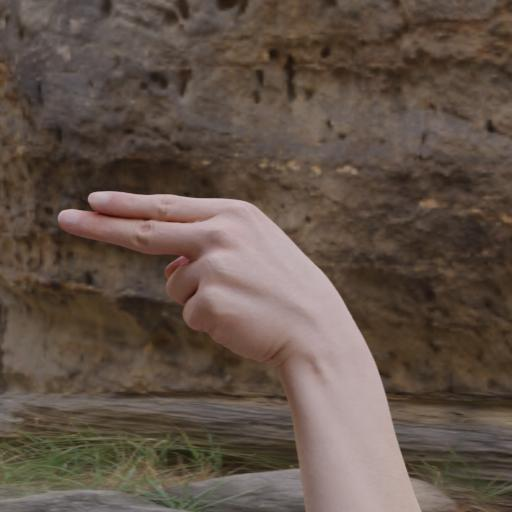H: (54, 187, 375, 371)
